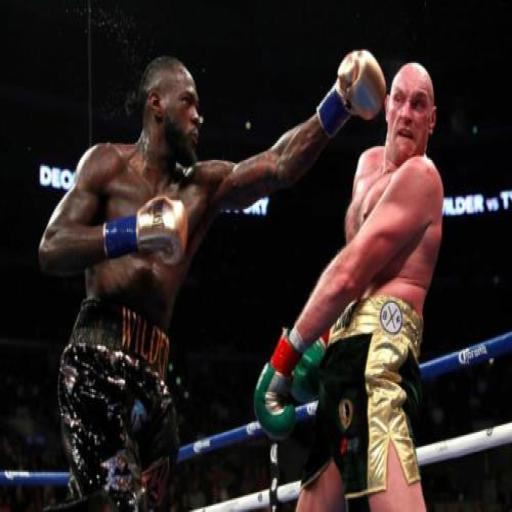boxing: (37, 46, 387, 511)
